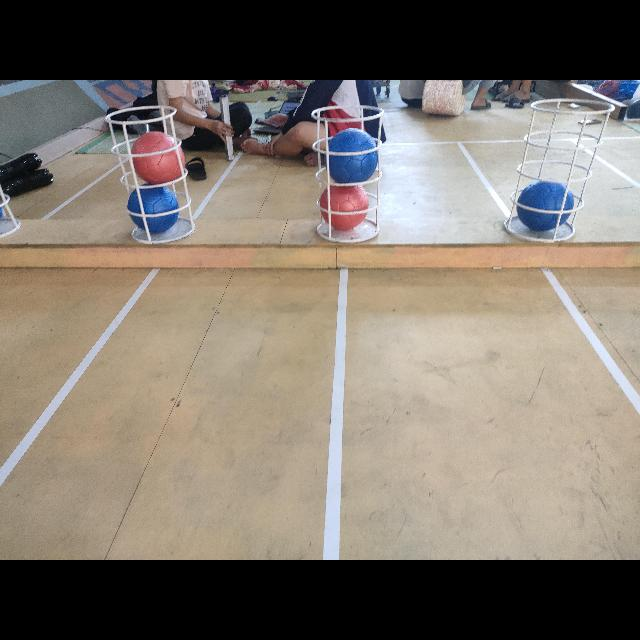B: (517, 178, 575, 230), (326, 128, 378, 186), (125, 183, 178, 233)
R: (130, 131, 186, 185), (320, 183, 370, 231)
